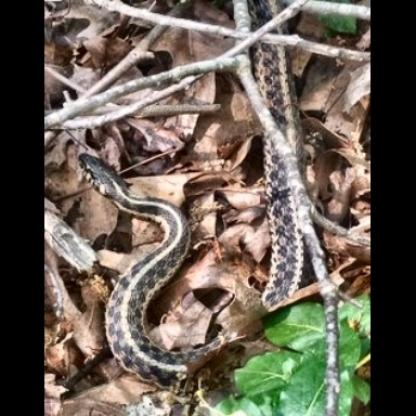Snake: (74, 146, 324, 391)
